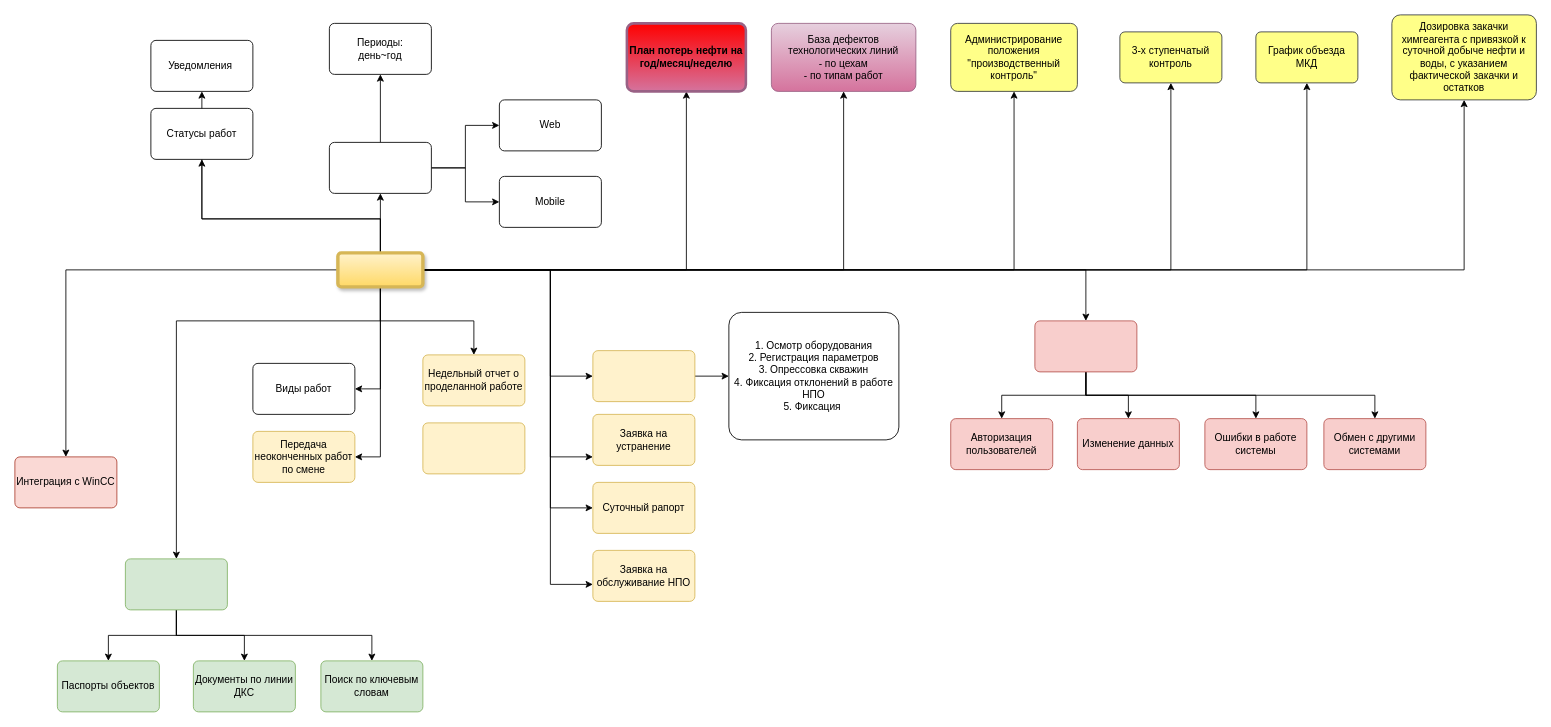
Some shapes in this 1551 by 727 pixel diagram are drawn without their labels. Here are the shapes that lost their labels. From the top down, the centre of each, then its label:
point 380,167: Планировщик
point 380,270: ТОиР
point 1085,346: Логирование
point 643,376: Сменное задание
point 473,448: Указание отклонения от графиков
point 176,584: Архив
